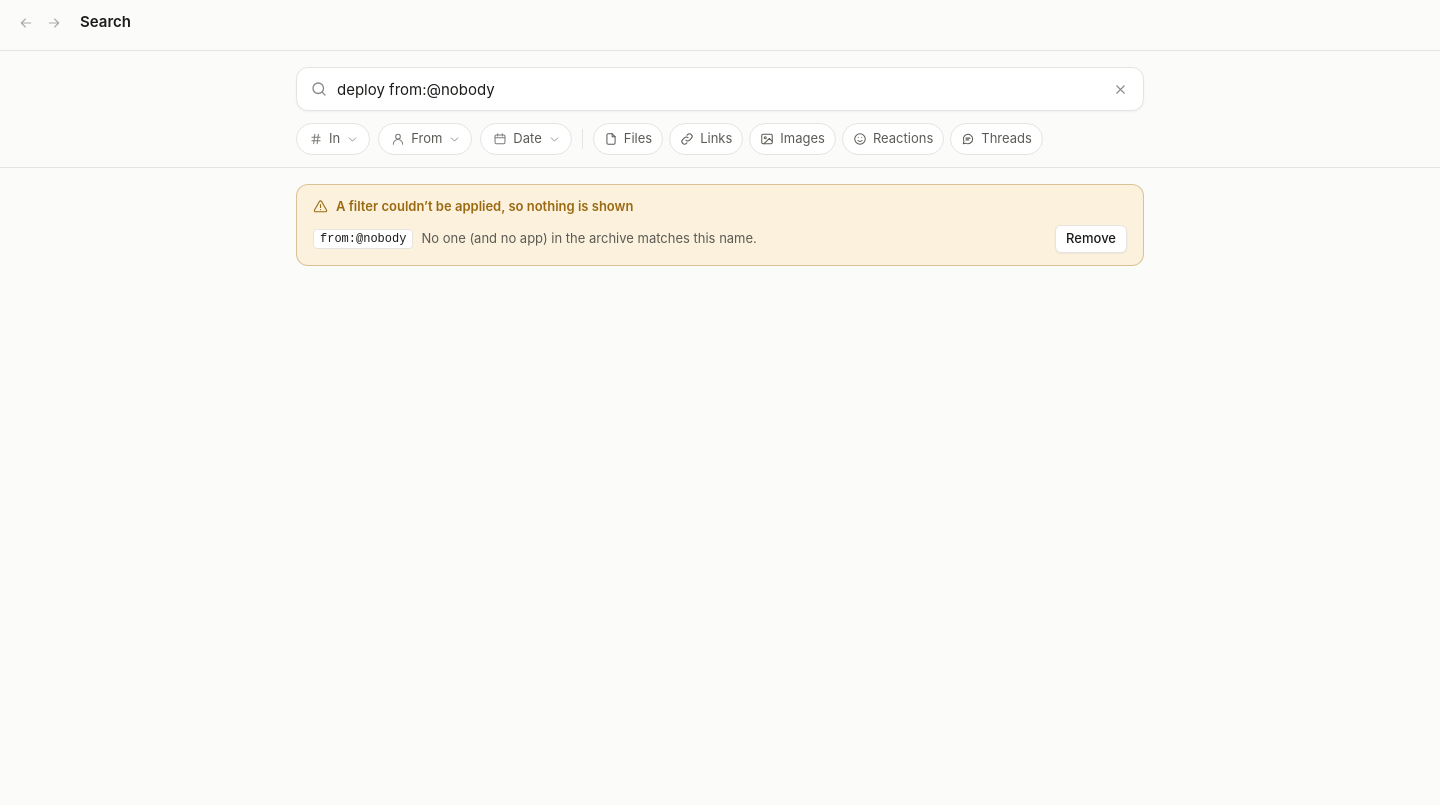
Test case: SearchPage › warns about modifiers the server could not resolve, with a fix
The width and height of the screenshot is (1440, 805).
Expected: the text "from:@nobody" is shown, [313,228,413,248]
Expected: the text "No one (and no app) in the archive matches this name." is shown, [421,230,757,246]
Click the button "Remove".
click(1091, 238)  # box [1055,224,1127,252]
(page scrolled)
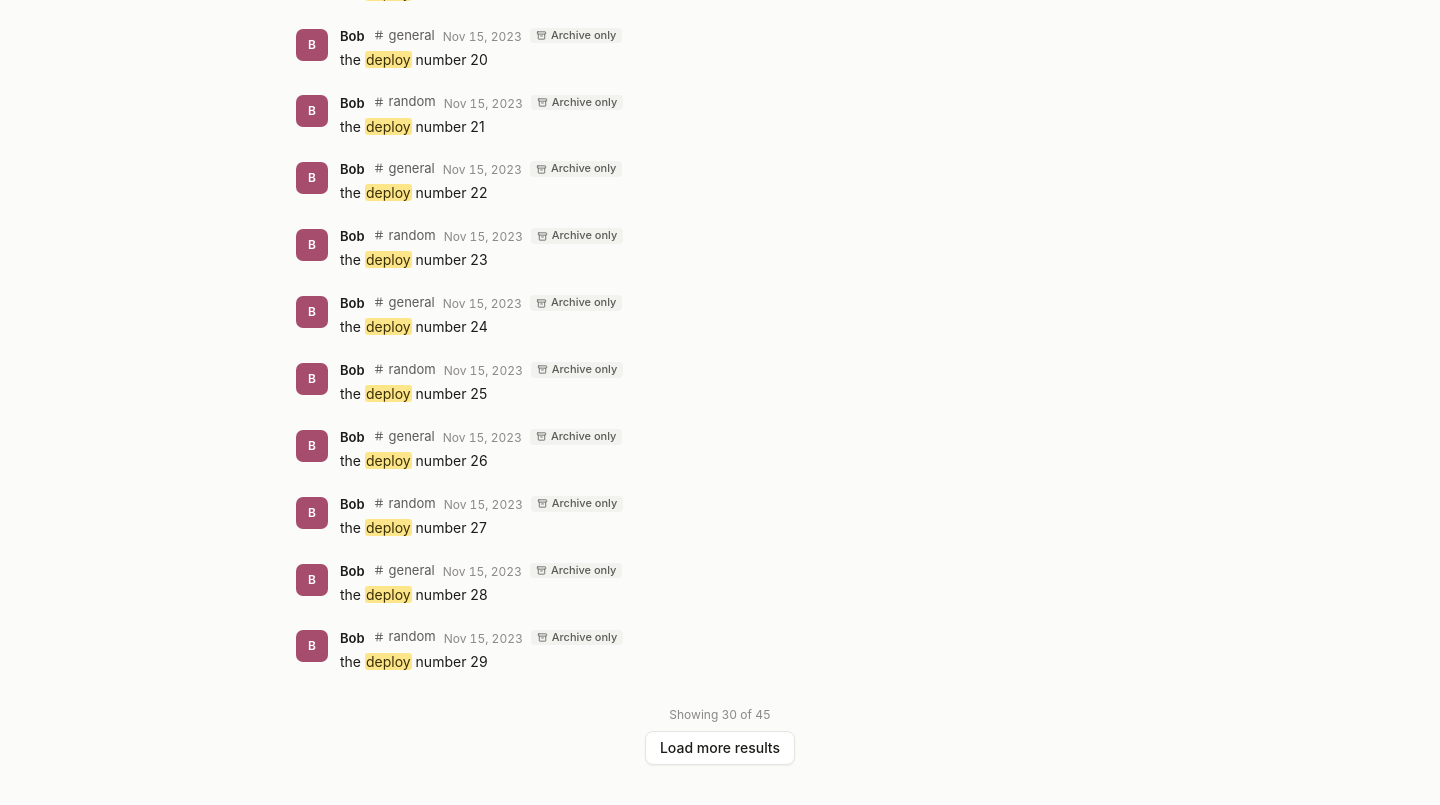
Now the text "Showing 30 of 45" is shown, box [669,707,771,723]
